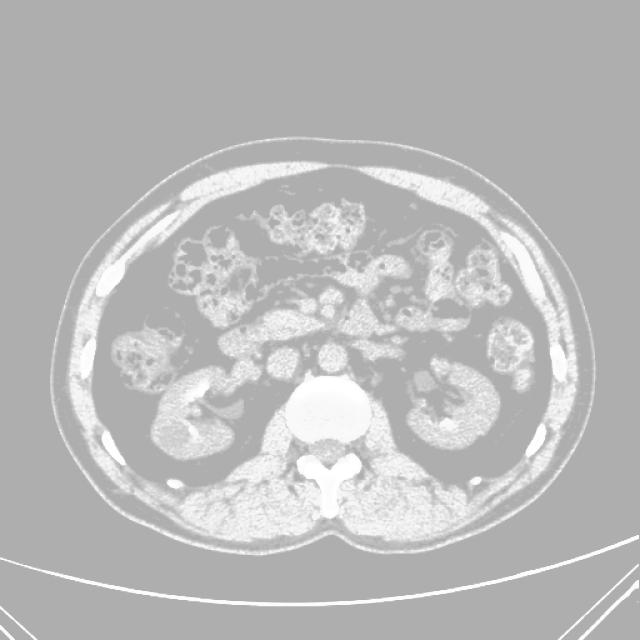STONE: (164, 264, 499, 475)
